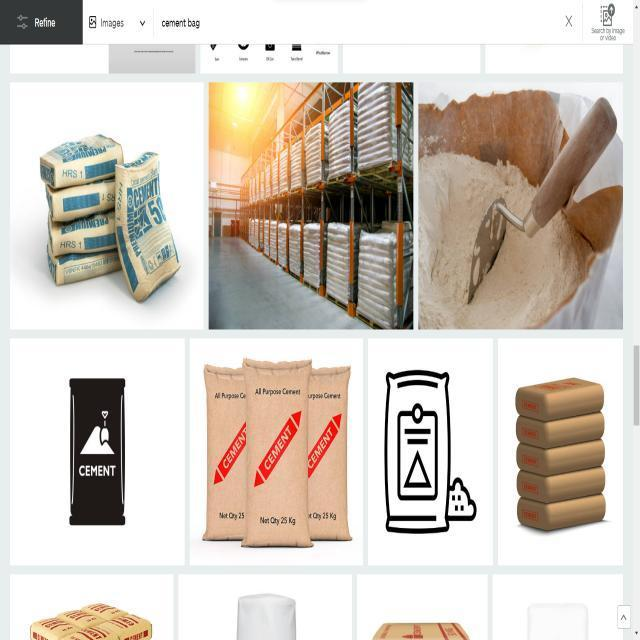gunny_bag: (242, 359, 312, 547), (114, 151, 179, 301), (308, 366, 352, 541), (203, 364, 246, 541), (39, 133, 122, 188), (516, 377, 605, 421), (47, 208, 116, 256), (517, 439, 606, 476), (518, 466, 606, 503), (518, 493, 606, 530), (45, 242, 120, 285), (517, 412, 605, 448), (45, 176, 115, 221)
